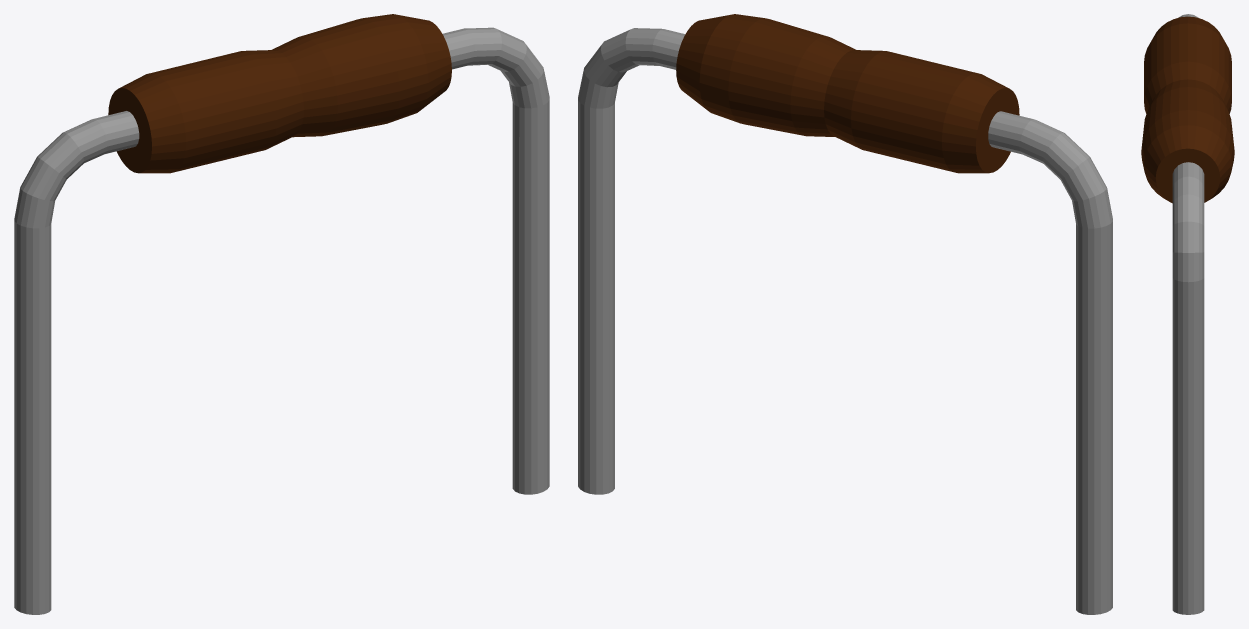
File: RES.glb
3 views of the same model, side by side, from view 1: azimuth 30°, elevation 25°; view 2: azimuth 150°, elevation 25°; view 3: azimuth 270°, elevation 25° (orthographic). The views are drawn at different scales.
Parts seen in each view (by area): view 1: Cube.050, Cylinder.065; view 2: Cube.050, Cylinder.065; view 3: Cube.050, Cylinder.065.
Part boxes in pixels (bbox=[...]): Cube.050: bbox=[14, 27, 549, 614]; Cylinder.065: bbox=[108, 14, 451, 173]; Cube.050: bbox=[578, 28, 1112, 614]; Cylinder.065: bbox=[676, 14, 1019, 173]; Cube.050: bbox=[1172, 14, 1204, 614]; Cylinder.065: bbox=[1141, 16, 1234, 203].
Bounding box in the file's own units: 48.24 × 43.79 × 8.57.
